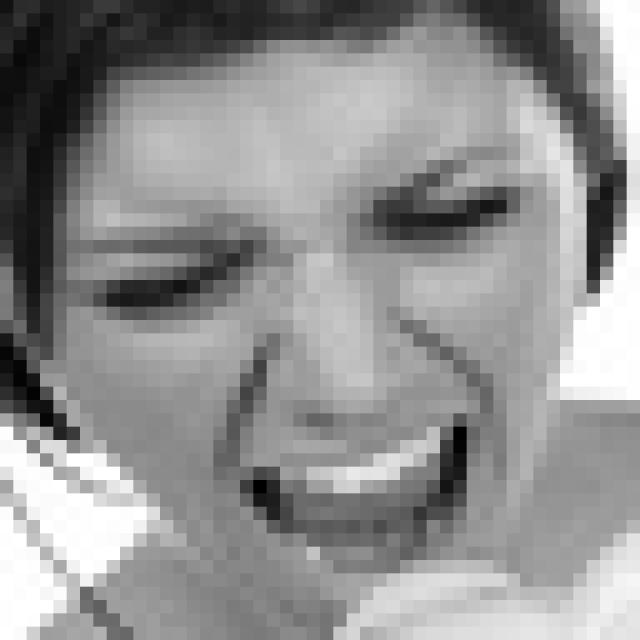angry: (69, 127, 541, 593)
